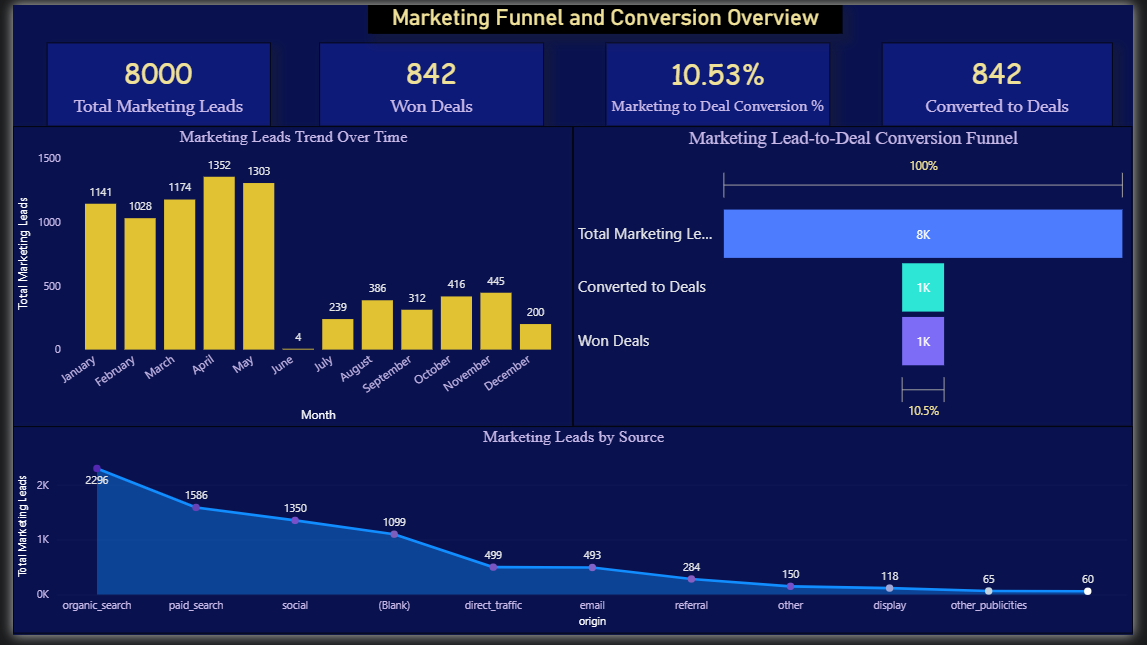

The page's visual inventory and layout, read from the dashboard file:
{"tool":"powerbi","page":{"name":"Marketing Funnel & Conversion Overview","canvas":[1280,720],"ordinal":0},"visuals":[{"type":"textbox","box":[192,0,1088,48],"z":0},{"type":"card","fields":{"Values":["cleaned_data.Total Marketing Leads"]},"box":[16,0,208,96],"z":1000},{"type":"card","fields":{"Values":["cleaned_data.Marketing to Deal Conversion %"]},"box":[16,320,208,96],"z":2000},{"type":"card","fields":{"Values":["cleaned_data.Converted to Deals"]},"box":[16,208,208,96],"z":3000},{"type":"card","fields":{"Values":["cleaned_data.Won Deals"]},"box":[16,112,208,80],"z":4000},{"type":"stackedAreaChart","title":"Marketing Leads Trend Over Time","fields":{"Category":["marketing_leads.first_contact_date.Variation.Date Hierarchy.Month"],"Y":["cleaned_data.Total Marketing Leads"]},"box":[256,64,448,368],"z":5000},{"type":"funnel","title":"Marketing Lead-to-Deal Conversion Funnel","fields":{"Y":["cleaned_data.Total Marketing Leads","cleaned_data.Converted to Deals","cleaned_data.Won Deals"]},"box":[720,64,544,368],"z":7000},{"type":"clusteredColumnChart","title":"Marketing Leads by Source","fields":{"Category":["marketing_leads.origin"],"Y":["cleaned_data.Total Marketing Leads"]},"box":[16,448,1248,272],"z":8000}]}

Visuals, with their boxes in screenshot pixels (x1, y1, x2, y2), scaled from the page's 1280x720 canvas onto the 1147x645 screenshot:
textbox: (left=172, top=0, right=1146, bottom=43)
card - cleaned_data.Total Marketing Leads: (left=14, top=0, right=201, bottom=86)
card - cleaned_data.Marketing to Deal Conversion %: (left=14, top=287, right=201, bottom=373)
card - cleaned_data.Converted to Deals: (left=14, top=186, right=201, bottom=272)
card - cleaned_data.Won Deals: (left=14, top=100, right=201, bottom=172)
"Marketing Leads Trend Over Time" stackedAreaChart: (left=229, top=57, right=631, bottom=387)
"Marketing Lead-to-Deal Conversion Funnel" funnel: (left=645, top=57, right=1133, bottom=387)
"Marketing Leads by Source" clusteredColumnChart: (left=14, top=401, right=1133, bottom=644)
